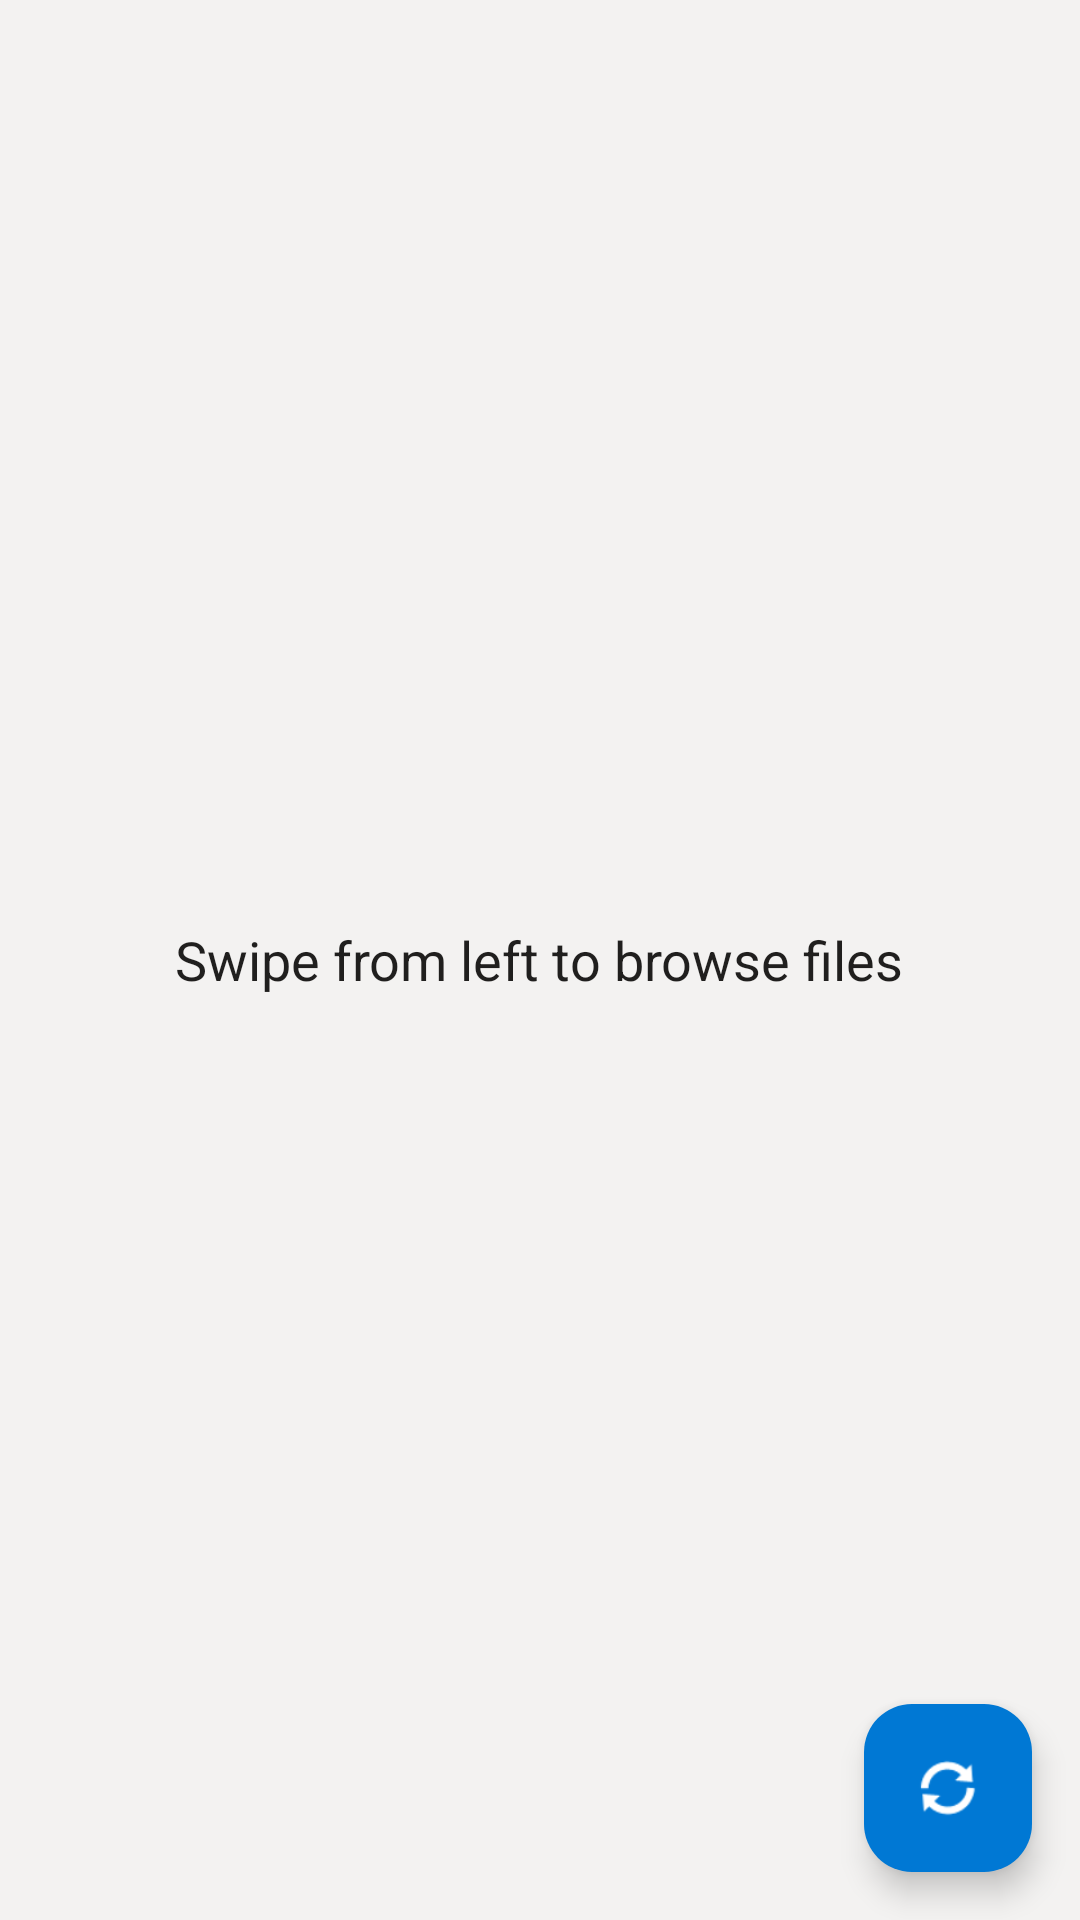

Screen size 1080×1920. Icon name, then its box in pixels as (x1, y1, x2, y2):
popup sync: (864, 1704, 1032, 1872)
